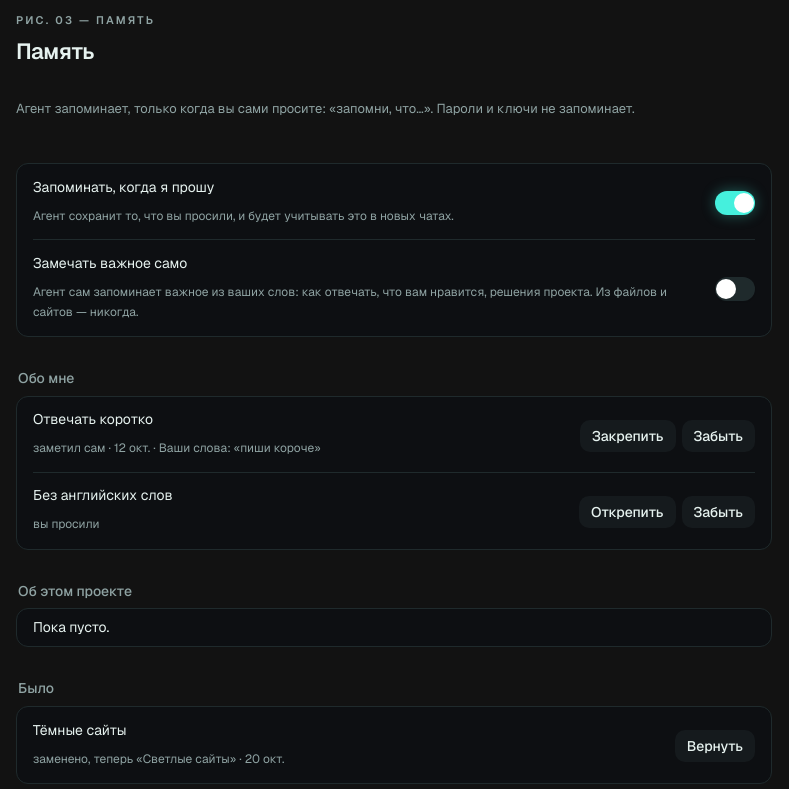
Test: Settings → Память, v2 (research/24 §3.6) › «Замечать важное само»: the first time a card with [Выключить], which turns it off
The image size is (789, 789).
What coordinates should you click on to do the following:
click the switch with test id "settings-memory-auto-toggle"
I would click on:
 (735, 289)
Its box is [715,277,755,301].
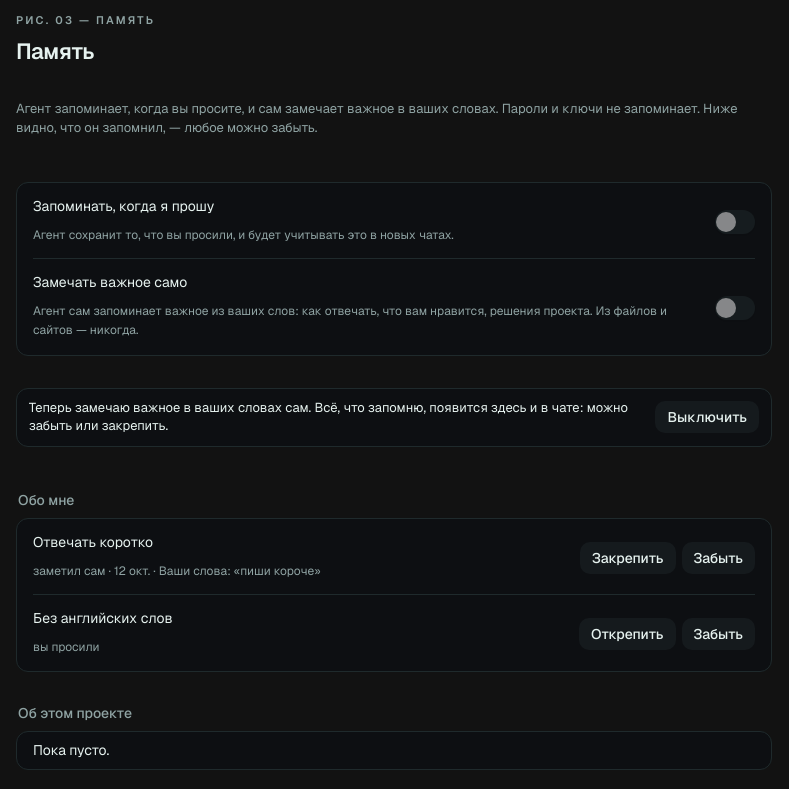
Expected: the message with test id "memory-auto-intro" shows "Теперь замечаю важное в ваших словах сам", [29,398,628,434]
What coordinates should you click on to do the following:
click the button with test id "memory-auto-intro-off"
I would click on:
 (707, 417)
Its box is [656,401,759,433].
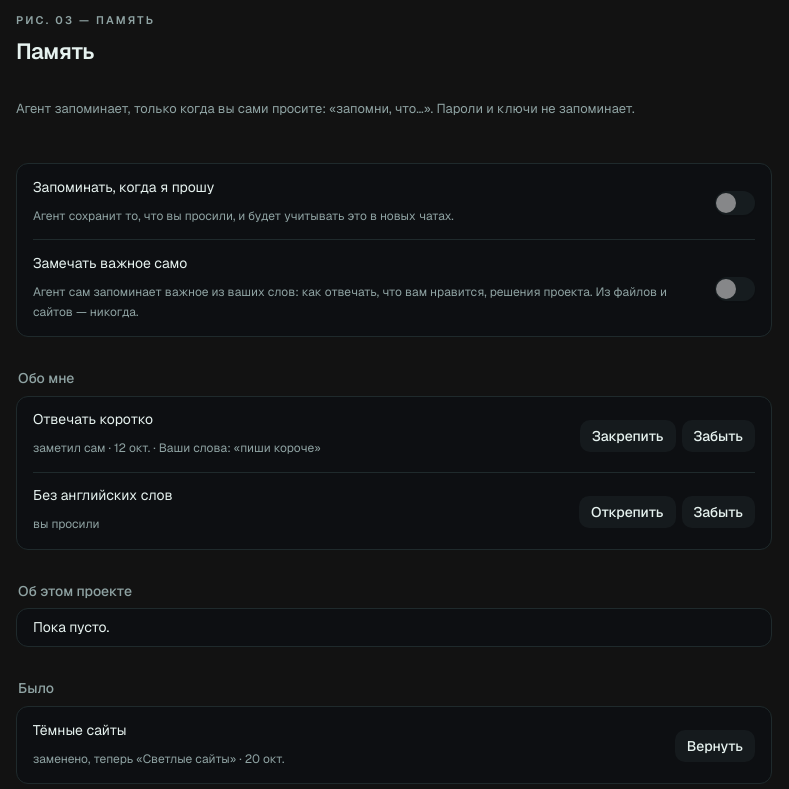
Expected: the message with test id "memory-auto-intro" is gone
